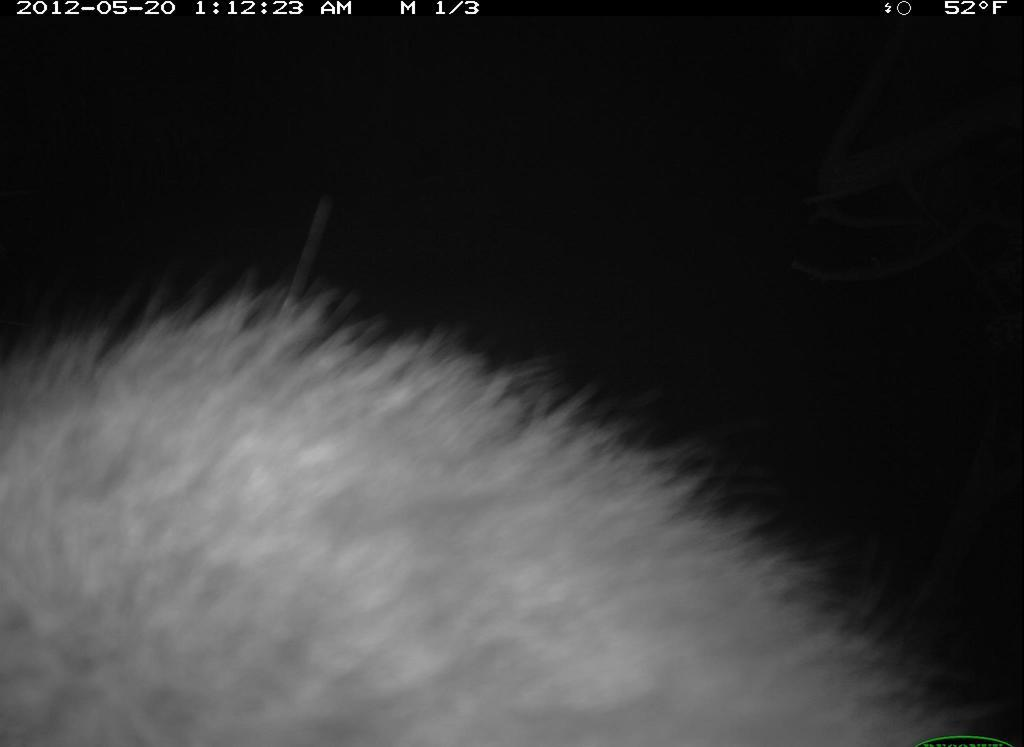raccoon: (4, 277, 1010, 742)
